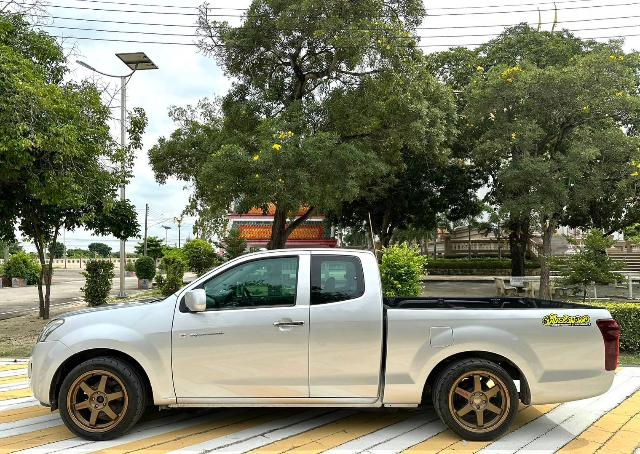pickup-truck: (22, 239, 625, 449)
